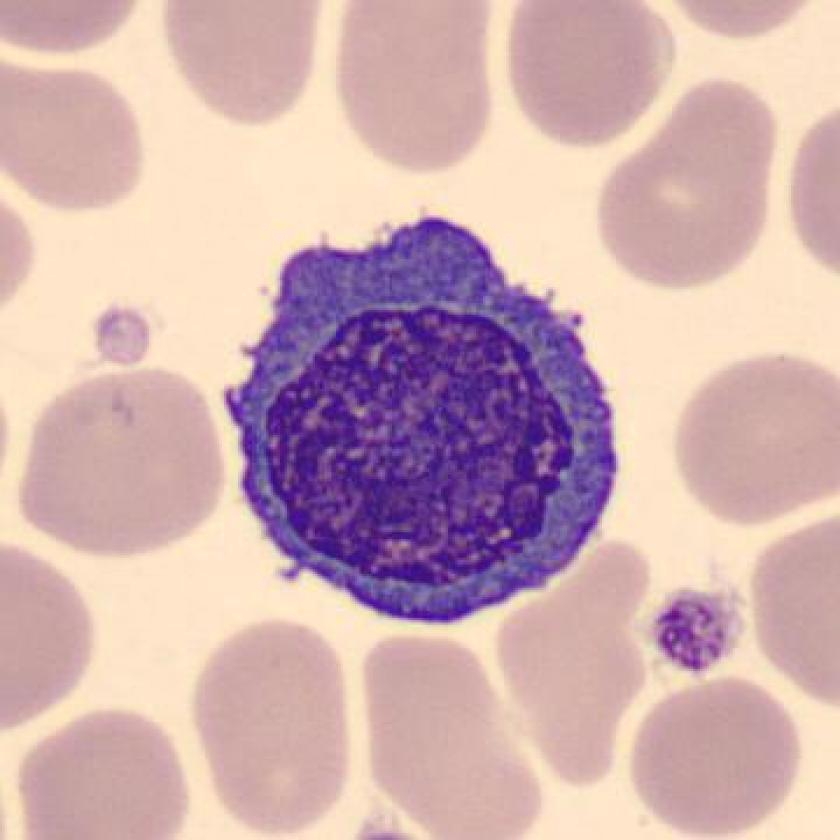monocyte: (199, 184, 636, 651)
